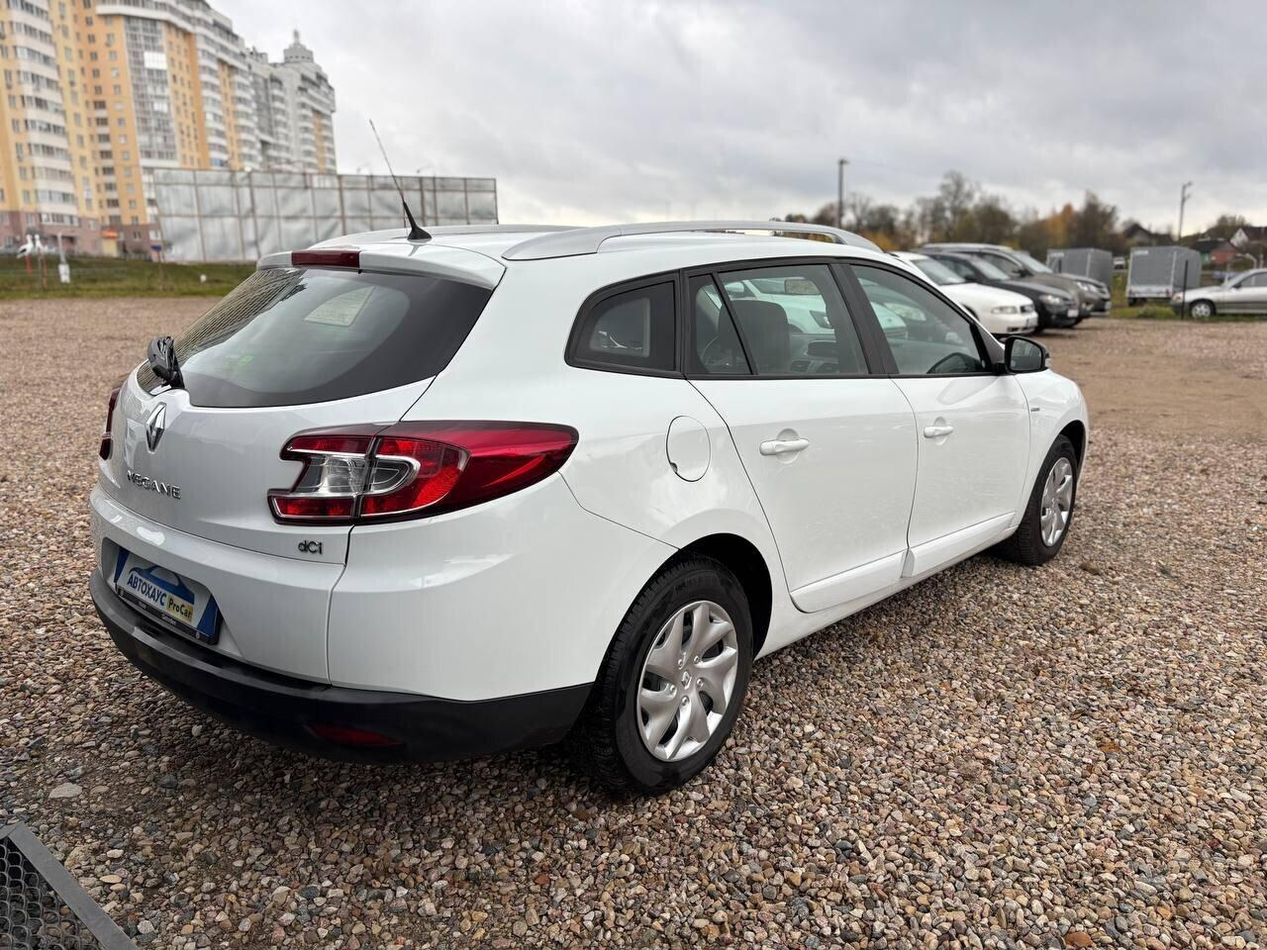Megane_2014-2016: (75, 214, 1091, 793)
